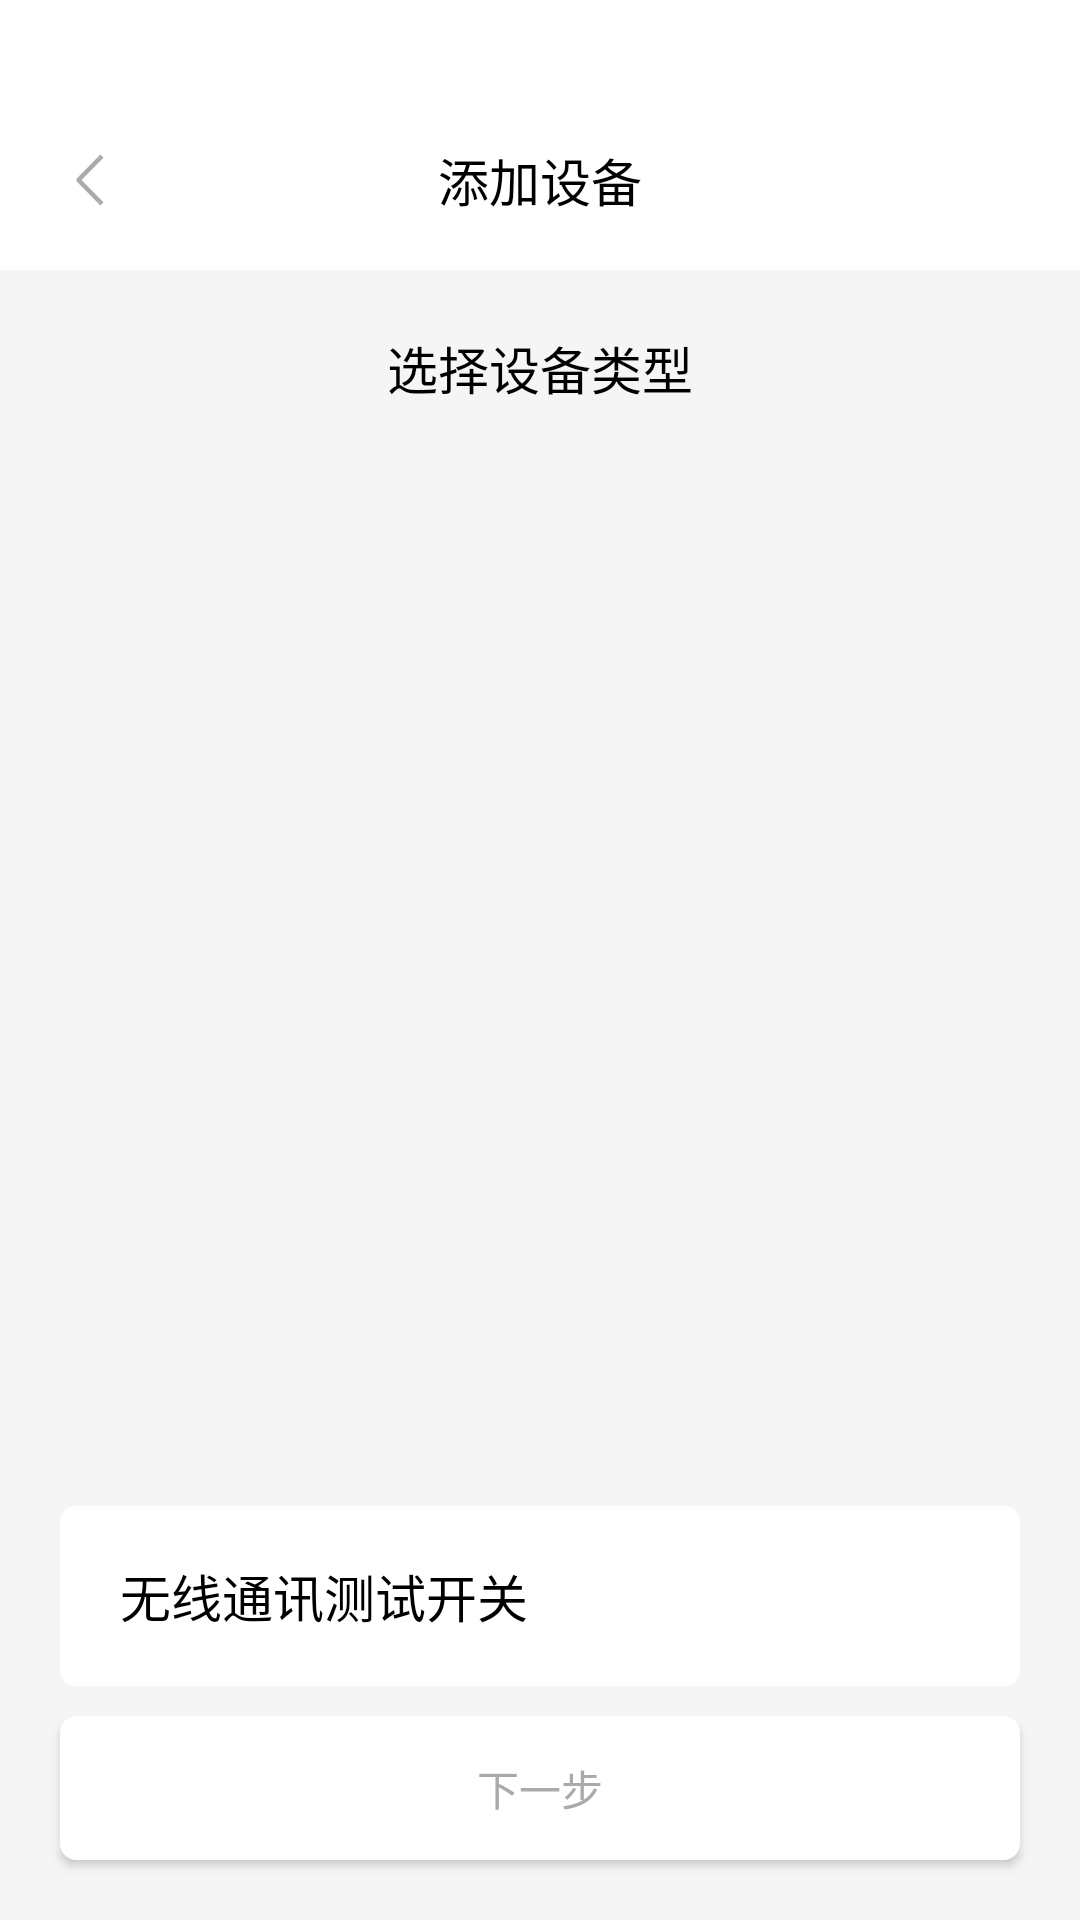

Icons on this 1080 x 1920 Android screen, each with the point to tap as (x=x, y=y):
back: (x=89, y=180)
